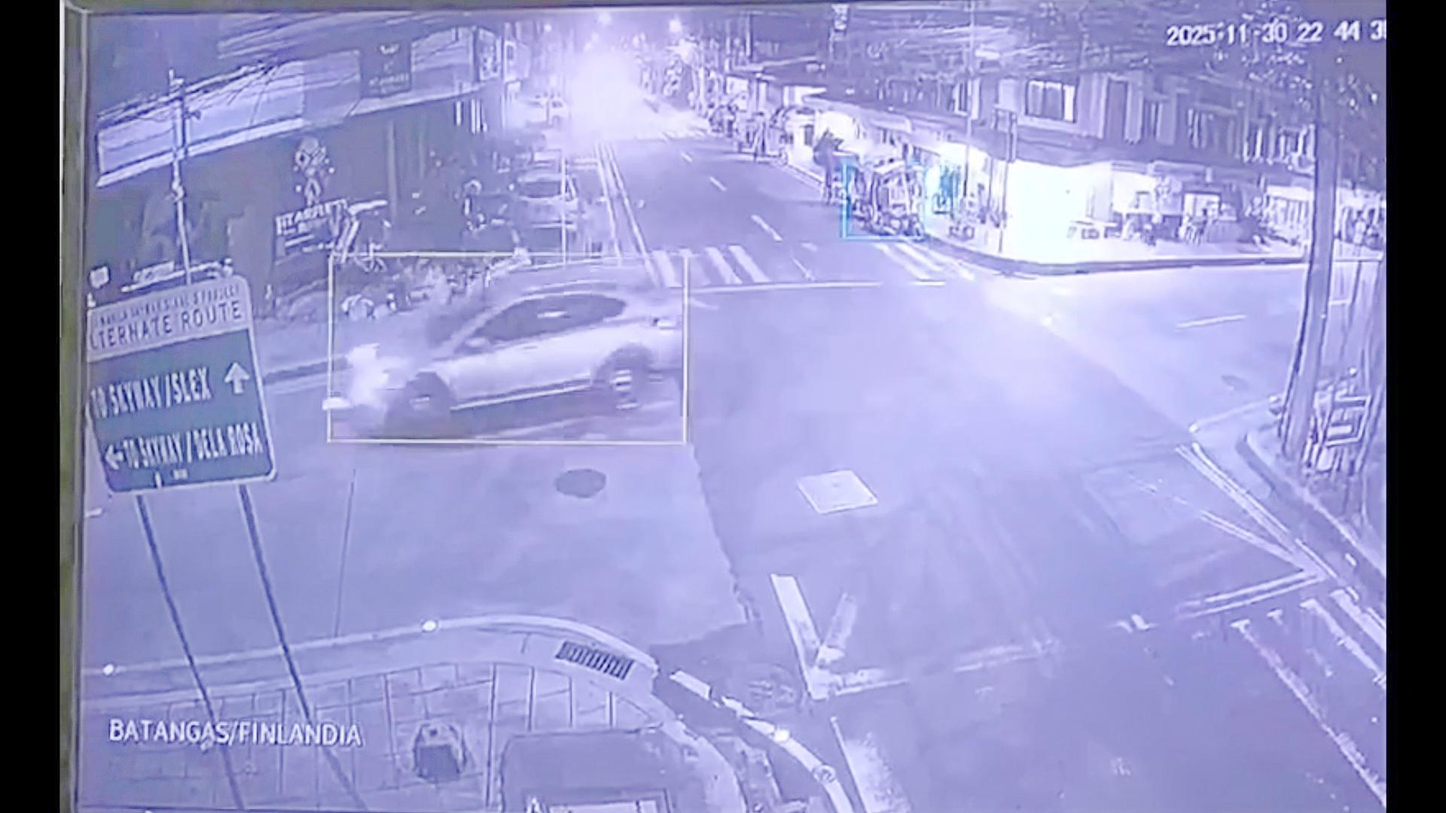Car: (335, 254, 687, 447)
